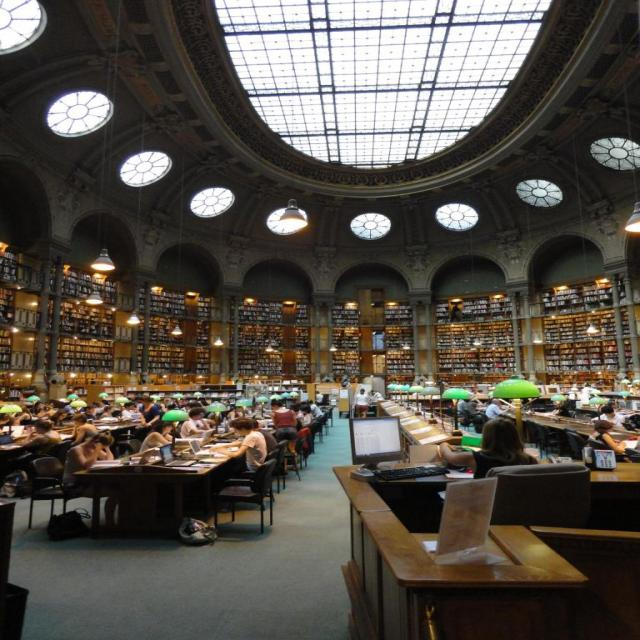chair: (486, 463, 592, 528), (214, 460, 278, 534), (341, 560, 380, 640), (28, 457, 66, 529)
desk: (74, 436, 239, 540)
keyboard: (373, 463, 450, 482)
person: (437, 417, 539, 478), (179, 406, 216, 442), (270, 399, 298, 437)
tv: (350, 416, 406, 464)
